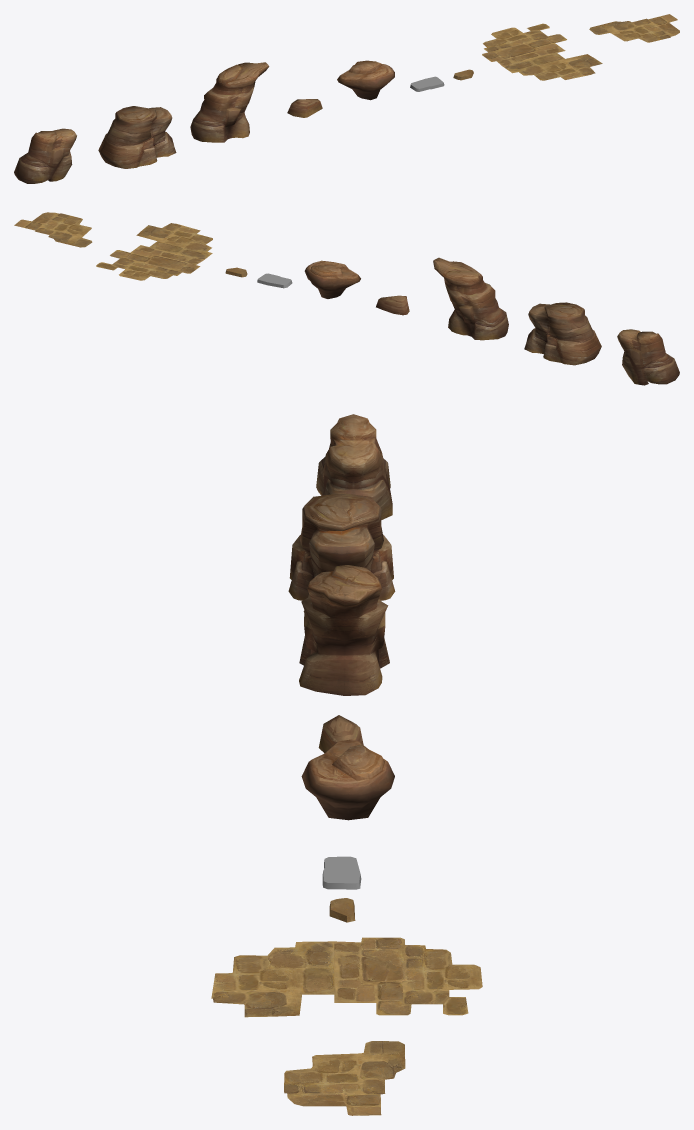
The model's file is SMYJ_ST_shanshi003.FBX.
The picture shows the model from 3 angles, top to bottom: view 1: azimuth 30°, elevation 25°; view 2: azimuth 150°, elevation 25°; view 3: azimuth 270°, elevation 25°; orthographic projection. The views are drawn at different scales.
Visible parts, largest first — view 1: SMYJ_st_008, SMYJ_st_003, SMYJ_st_002, SMYJ_st_001, SMYJ_st_009, SMYJ_st_004, SMYJ_st_005, SMYJ_st_006; view 2: SMYJ_st_008, SMYJ_st_003, SMYJ_st_002, SMYJ_st_001, SMYJ_st_009, SMYJ_st_004, SMYJ_st_005, SMYJ_st_006; view 3: SMYJ_st_008, SMYJ_st_003, SMYJ_st_002, SMYJ_st_009, SMYJ_st_004, SMYJ_st_001, SMYJ_st_006.
Boxes of the visible parts, x1,y1,x2,y2 form: SMYJ_st_008: (482,23,602,80); SMYJ_st_003: (190,62,269,142); SMYJ_st_002: (98,106,176,168); SMYJ_st_001: (14,128,76,183); SMYJ_st_009: (589,14,679,42); SMYJ_st_004: (337,60,394,100); SMYJ_st_005: (287,99,322,117); SMYJ_st_006: (410,76,444,91); SMYJ_st_008: (96,223,212,280); SMYJ_st_003: (433,257,508,340); SMYJ_st_002: (524,302,601,365); SMYJ_st_001: (617,329,679,385); SMYJ_st_009: (14,212,92,247); SMYJ_st_004: (304,260,360,298); SMYJ_st_005: (376,295,409,315); SMYJ_st_006: (257,273,292,288); SMYJ_st_008: (211,937,482,1017); SMYJ_st_003: (299,565,389,695); SMYJ_st_002: (288,493,395,612); SMYJ_st_009: (284,1041,405,1115); SMYJ_st_004: (301,740,394,820); SMYJ_st_001: (316,414,392,519); SMYJ_st_006: (322,856,361,889).
Size of the model in its own units: 5502 by 507 by 985.
